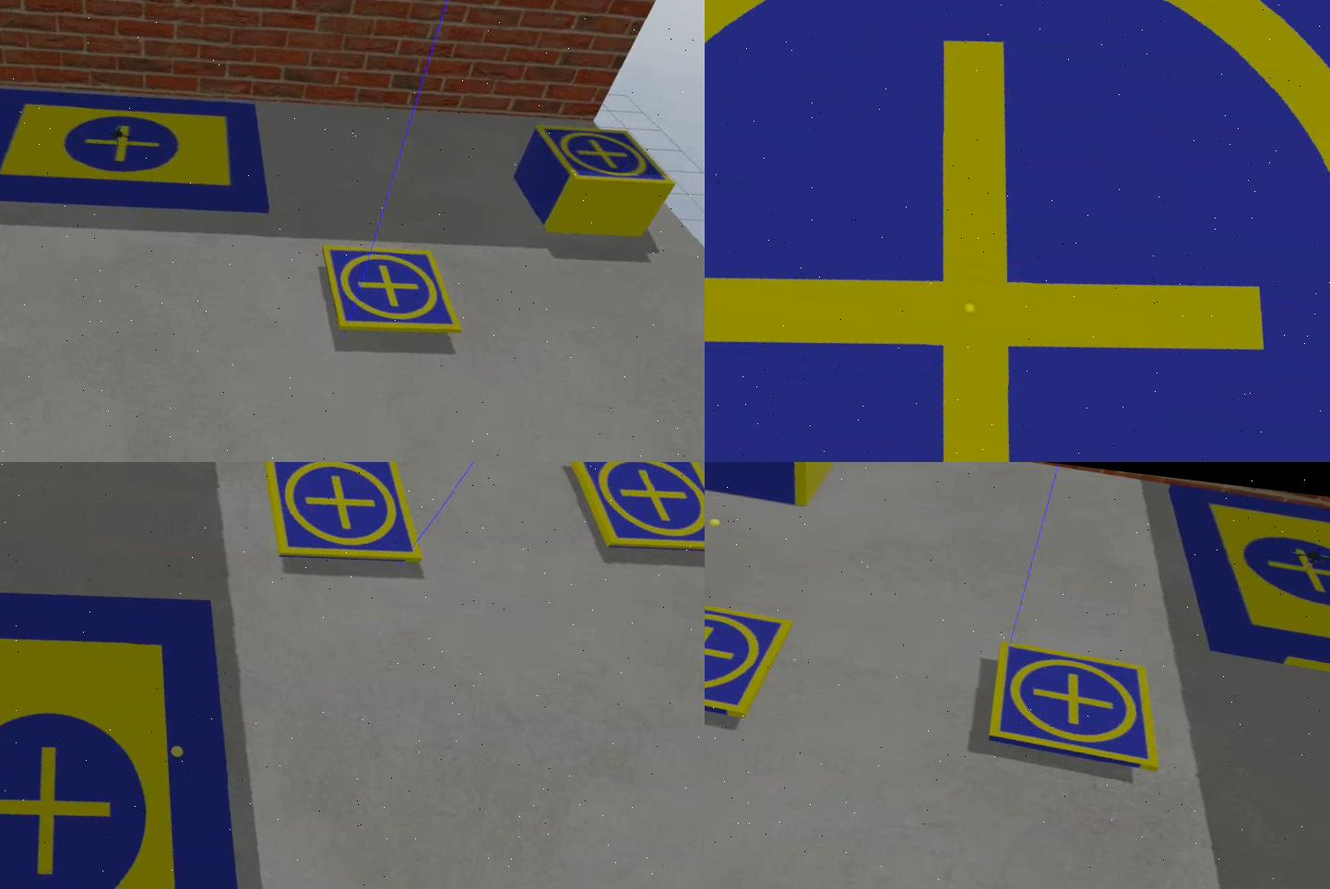large_base: (1, 563, 323, 889), (1, 66, 284, 241), (1147, 478, 1330, 710)
small_base: (706, 1, 1330, 463), (985, 644, 1174, 774), (253, 463, 437, 575), (312, 236, 474, 350), (561, 463, 706, 565), (706, 587, 791, 725), (531, 121, 683, 198)
